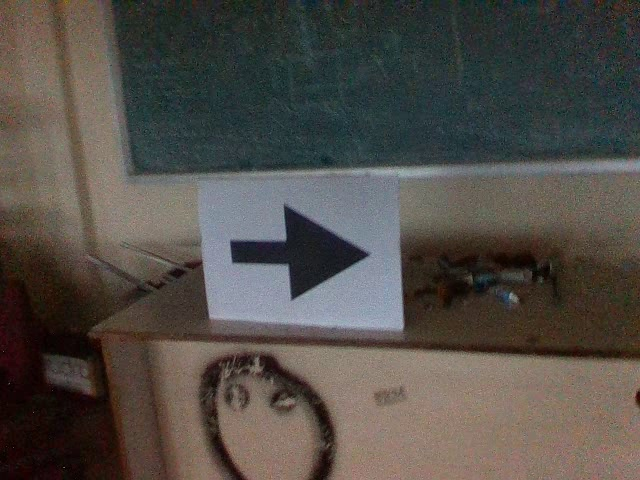Right: (216, 199, 378, 303)
